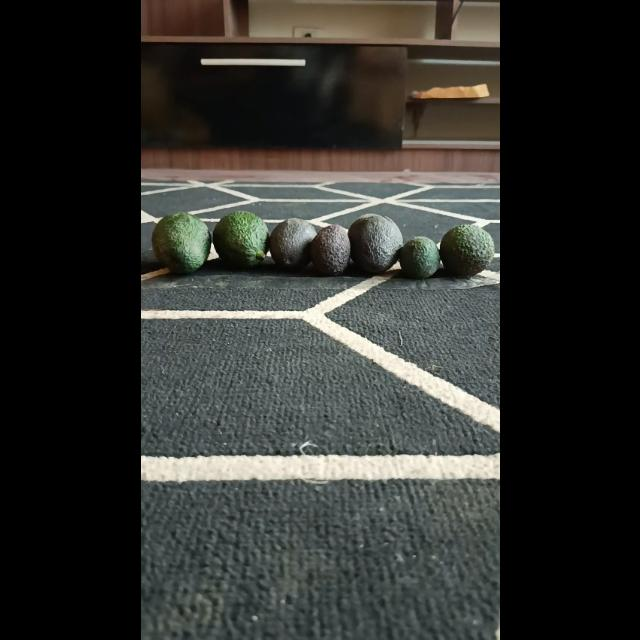Primera: (150, 212, 210, 272), (346, 214, 402, 272), (212, 212, 268, 268)
Segunda: (438, 224, 494, 278), (268, 218, 316, 270)
Tercera: (308, 226, 349, 276), (398, 237, 438, 279)
